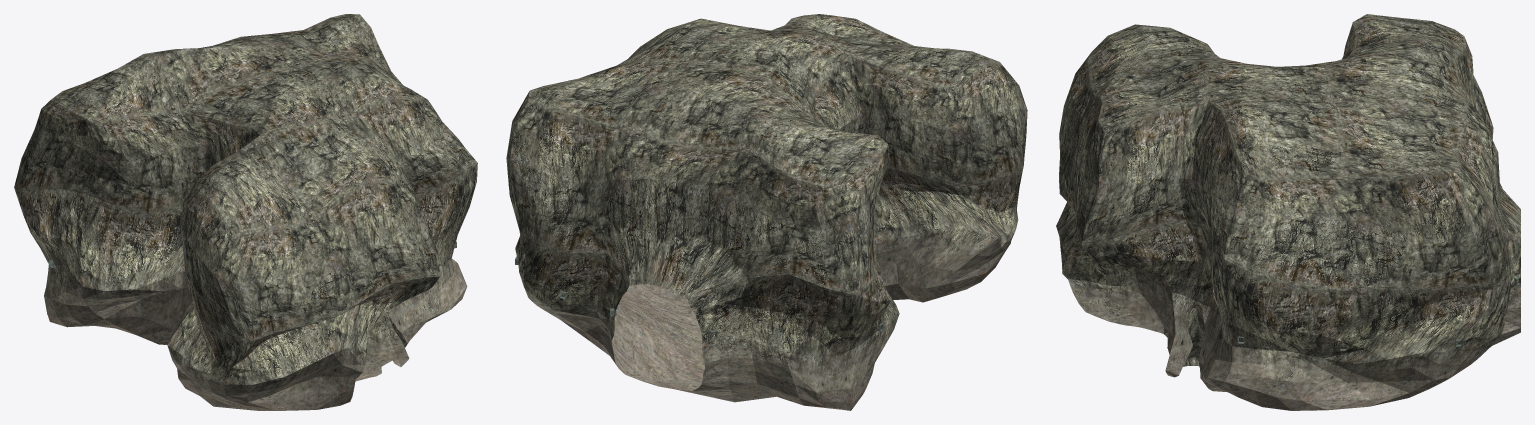
File: poi_all_bunker_mad_bio_s01_r18_caveroom2_mesh_r18.fbx
3 renders of one model, left to right at view 1: azimuth 30°, elevation 25°; view 2: azimuth 150°, elevation 25°; view 3: azimuth 270°, elevation 25°, orthographic. The views are drawn at different scales.
Visible parts, largest first — view 1: mesh_node; view 2: mesh_node; view 3: mesh_node.
Boxes of the visible parts, box(x1,y1,x2,y2) form: mesh_node: box(14, 14, 477, 410); mesh_node: box(506, 14, 1027, 410); mesh_node: box(1056, 14, 1520, 410).
Size of the model in its own units: 26.37 by 18.58 by 27.67.
